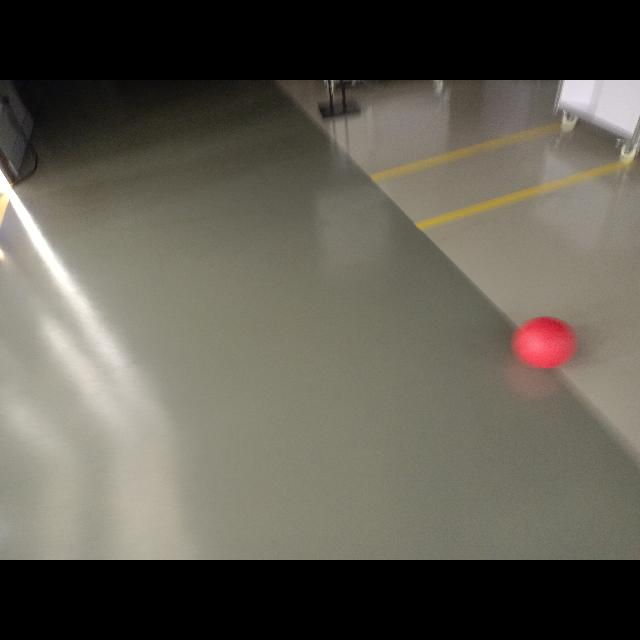R: (512, 315, 576, 369)
